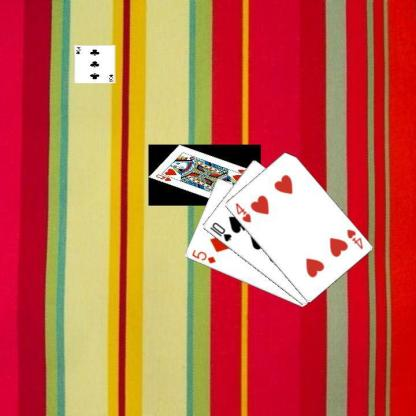10S: (207, 220, 233, 242)
4H: (232, 200, 252, 224), (344, 227, 364, 250)
5D: (189, 247, 217, 265)
